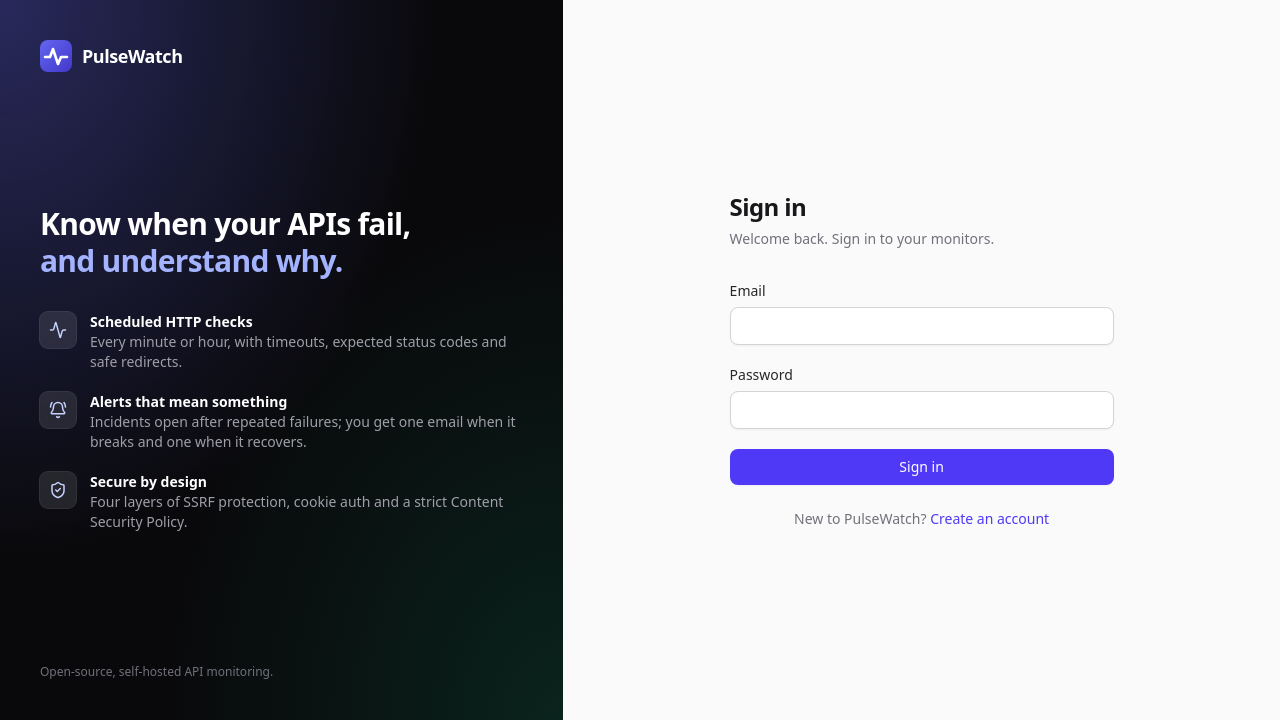
Test: sign-in flow › sends a signed-out visitor to sign in, then back to the page they wanted
Check: the heading "Sign in" is shown, box [730,190,806,223]
Type "owner@example.com" into the field labelled "Email" at coordinates (922, 326), box [730,307,1114,345]
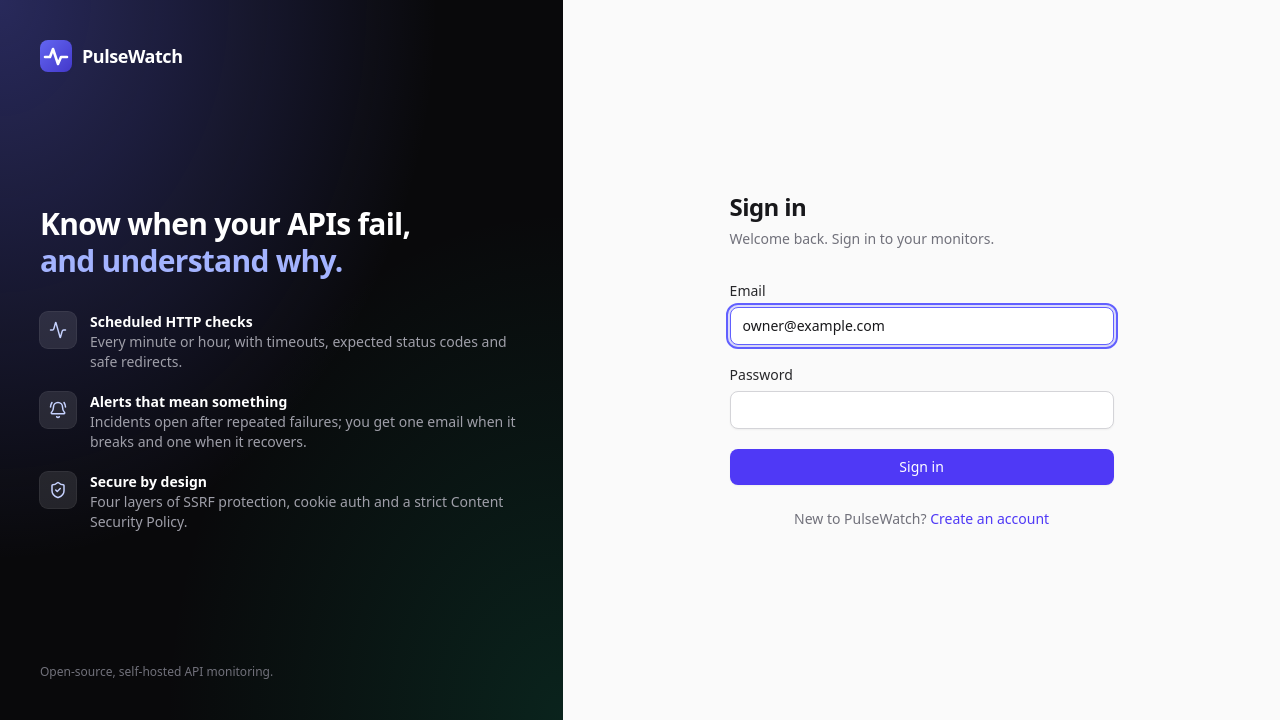
Type "correct horse battery staple" into the password field labelled "Password" at coordinates (922, 410), box [730,391,1114,429]
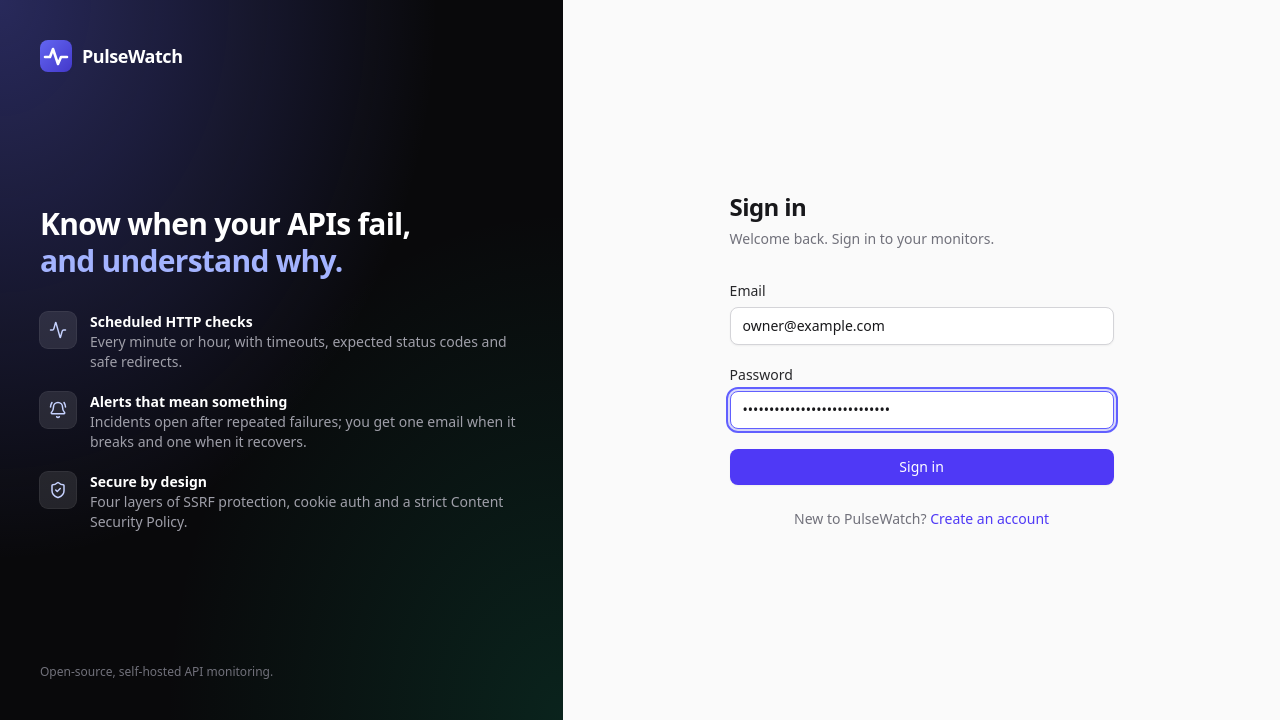
Click the button "Sign in" at coordinates (922, 467), box [730,449,1114,485]
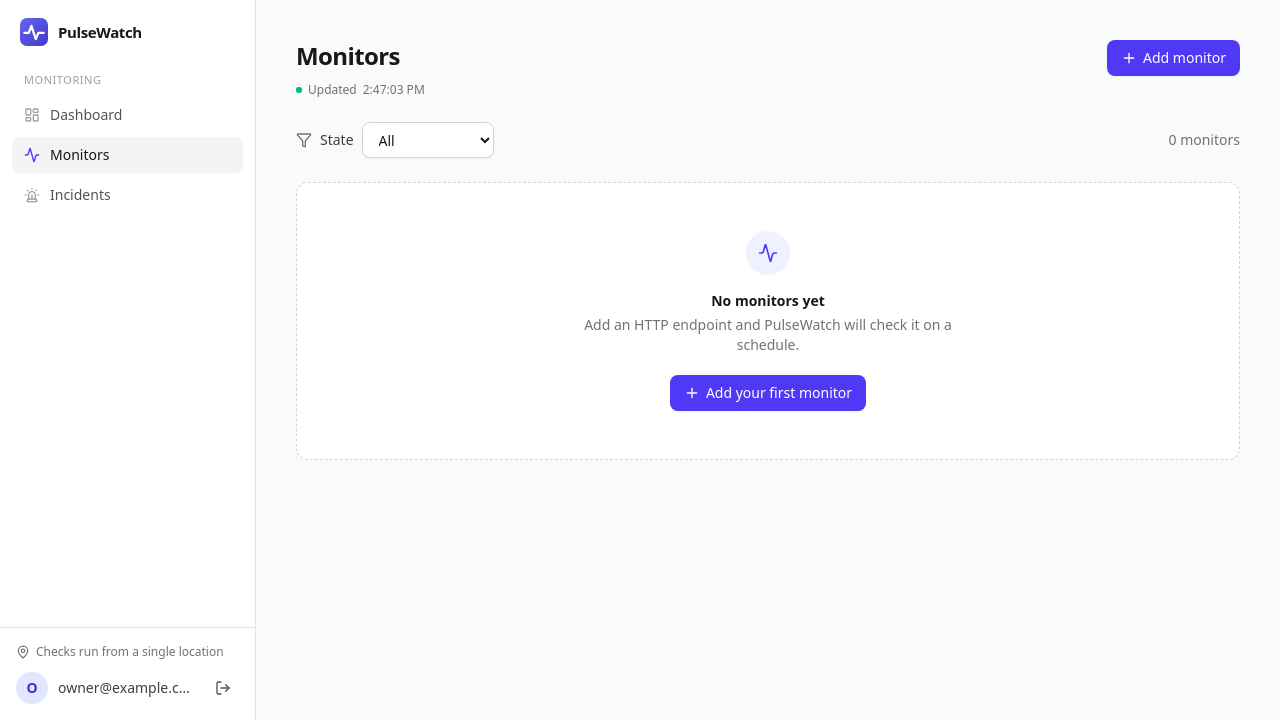
Check: the heading "Monitors" is shown, box [296,39,400,72]
Check: the button named "Sign out" is shown, box [207,674,239,702]
